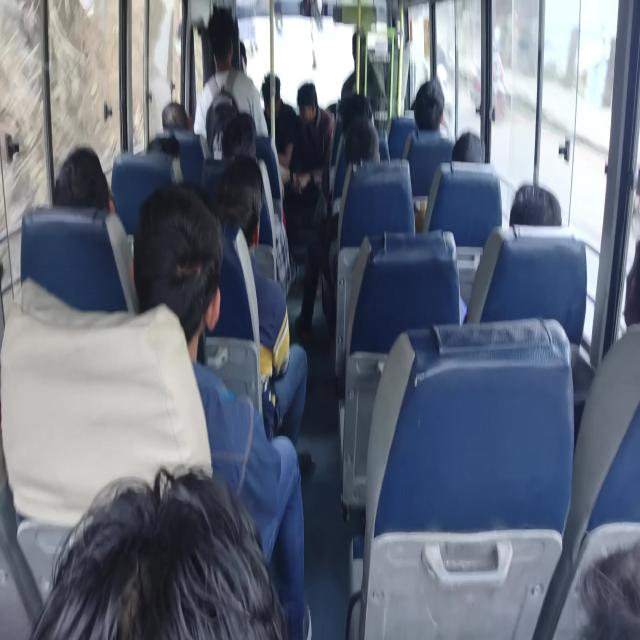person: (132, 182, 312, 638), (29, 466, 289, 639), (213, 155, 308, 452), (294, 115, 380, 342), (53, 146, 136, 310), (192, 8, 268, 150), (288, 81, 334, 231), (53, 144, 115, 213), (260, 72, 297, 182), (340, 29, 383, 109), (411, 76, 453, 144), (451, 131, 485, 163), (161, 100, 191, 132)
